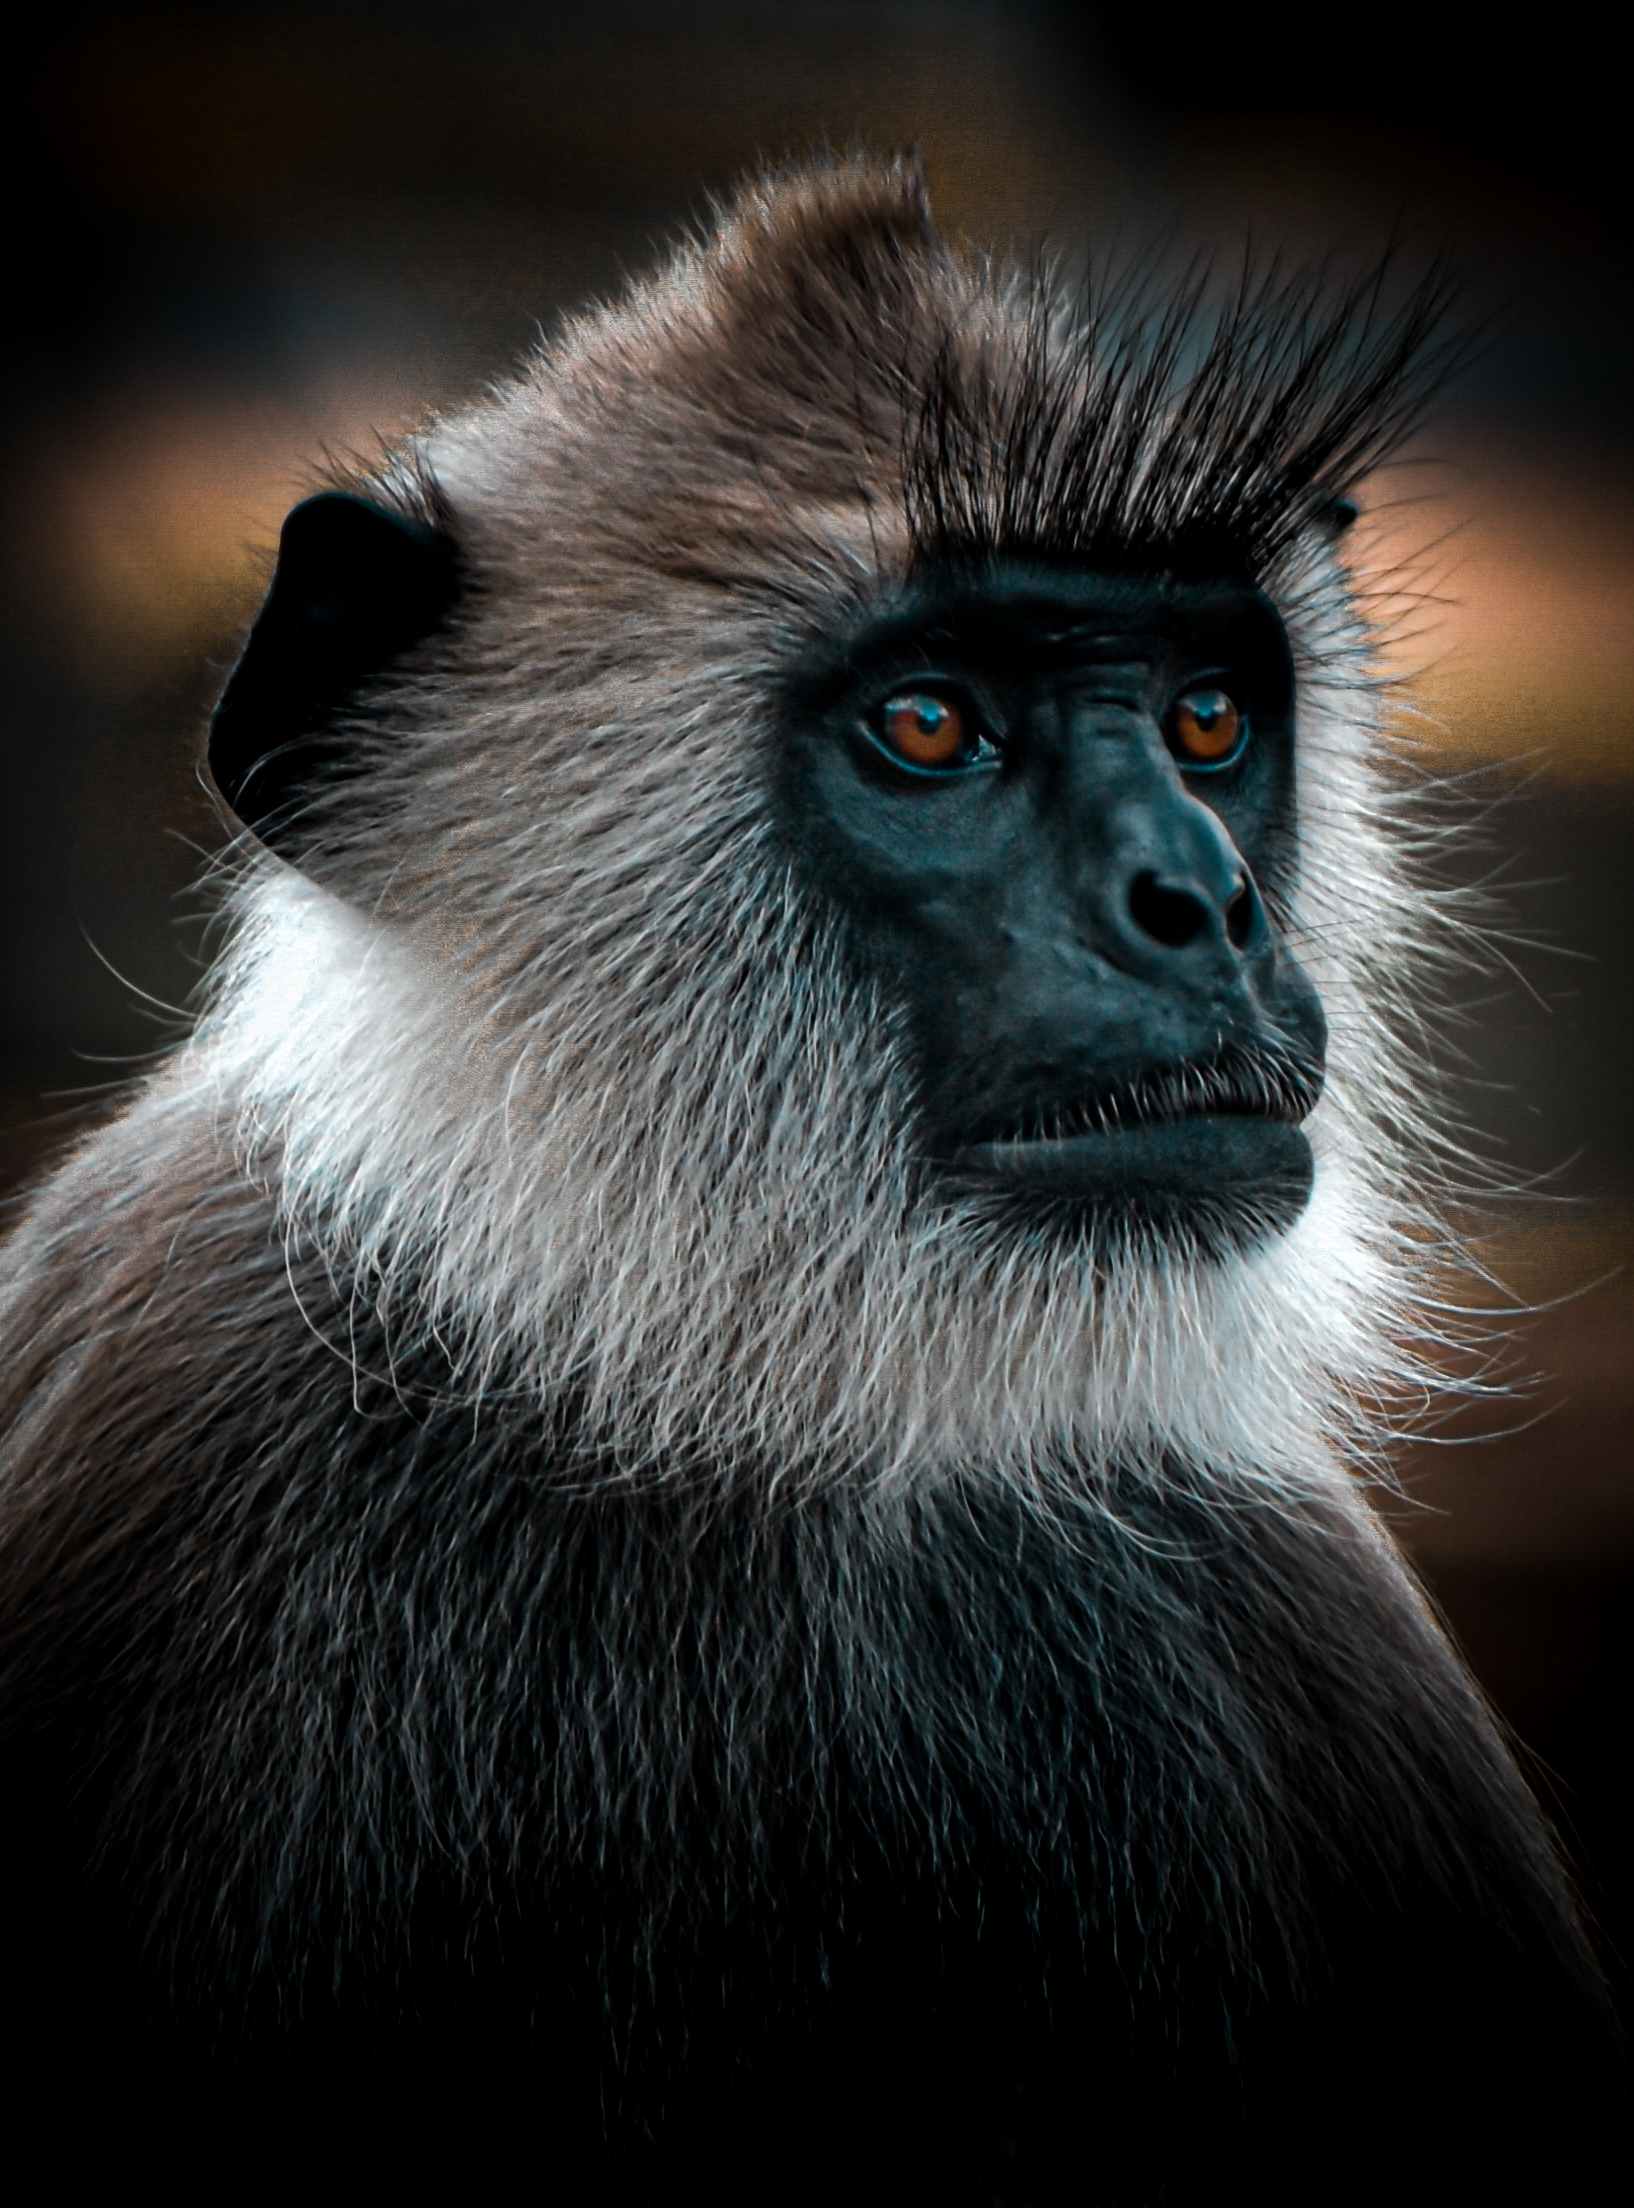Monkey: (62, 62, 1529, 1769)
